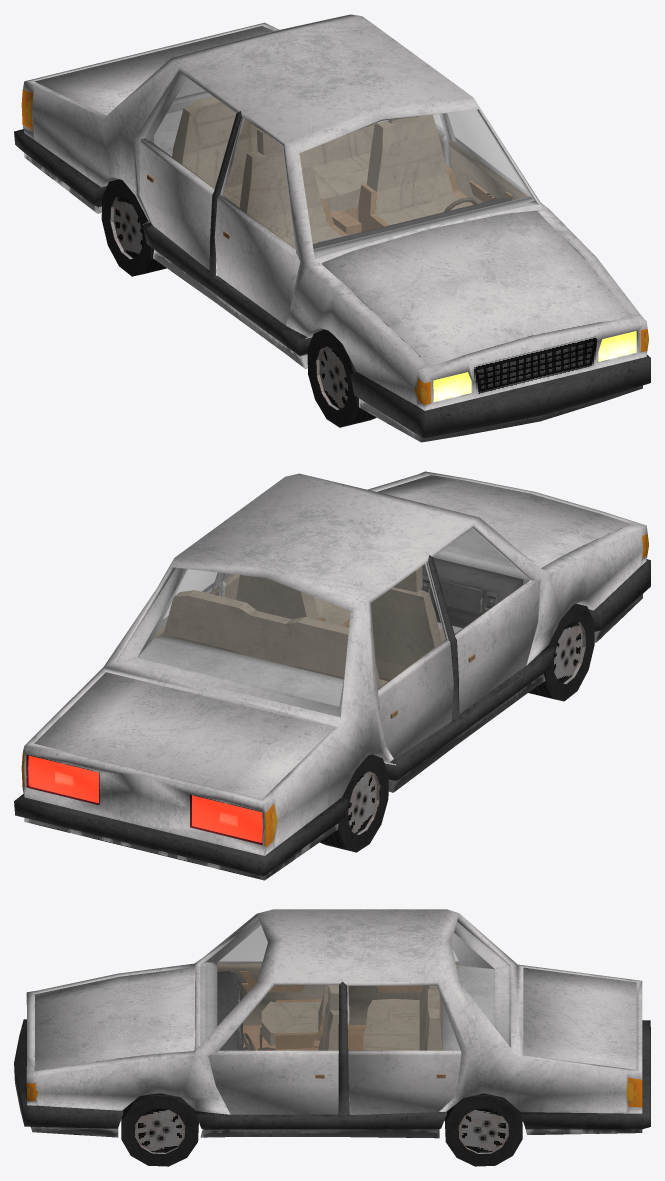
The model's file is Car3.glb.
The picture shows the model from 3 angles, top to bottom: view 1: azimuth 30°, elevation 25°; view 2: azimuth 150°, elevation 25°; view 3: azimuth 270°, elevation 25°; orthographic projection. The views are drawn at different scales.
Visible parts, largest first — view 1: Car_Base, car_hood, R_Door_Front, R_Door_Back, trunk, L_Door_Front, R_Wheel_Front, R_Wheel_Back; view 2: Car_Base, trunk, R_Door_Front, R_Door_Back, car_hood, R_Wheel_Back, R_Wheel_Front, L_Door_Back; view 3: Car_Base, L_Door_Front, L_Door_Back, car_hood, trunk, L_Wheel_front, L_Wheel_Back, R_Door_Front, R_Door_Back.
Part boxes in pixels (x1,y1,x2,y2): Car_Base: (14, 14, 650, 442); car_hood: (322, 210, 630, 366); R_Door_Front: (214, 118, 300, 325); R_Door_Back: (140, 74, 235, 270); trunk: (34, 26, 272, 115); L_Door_Front: (446, 110, 529, 203); R_Wheel_Front: (307, 329, 376, 427); R_Wheel_Back: (101, 179, 166, 276); Car_Base: (14, 471, 650, 880); trunk: (34, 672, 333, 798); R_Door_Front: (433, 528, 540, 714); R_Door_Back: (371, 564, 453, 758); car_hood: (377, 475, 629, 567); R_Wheel_Back: (320, 754, 388, 852); R_Wheel_Front: (528, 603, 594, 701); L_Door_Back: (154, 569, 222, 638); Car_Base: (14, 909, 650, 1138); L_Door_Front: (208, 985, 338, 1114); L_Door_Back: (347, 986, 461, 1114); car_hood: (34, 967, 195, 1070); trunk: (523, 967, 636, 1069); L_Wheel_front: (121, 1093, 198, 1166); L_Wheel_Back: (445, 1093, 522, 1166); R_Door_Front: (217, 926, 324, 1025); R_Door_Back: (348, 951, 460, 1025).
Bounding box in the file's own units: 1.71 × 1.48 × 4.73.
2 materials, 2 textured.
